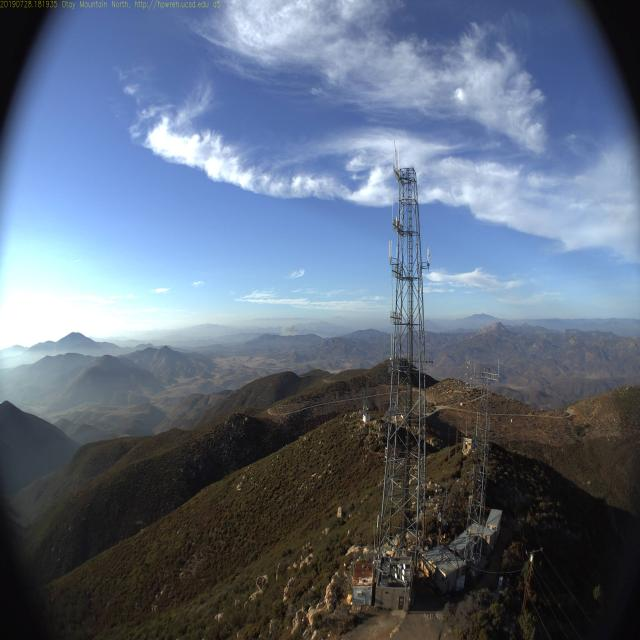smoke: (279, 317, 306, 351)
